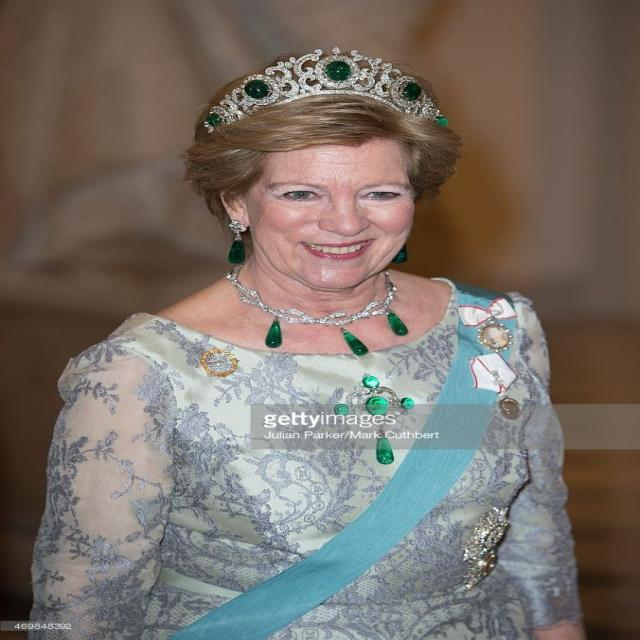Earring: (220, 206, 254, 279), (387, 238, 415, 276)
